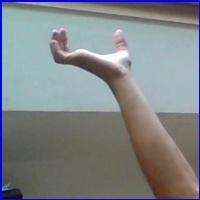space: (44, 20, 140, 83)
